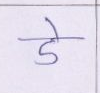e_matra: (40, 17, 62, 37)
